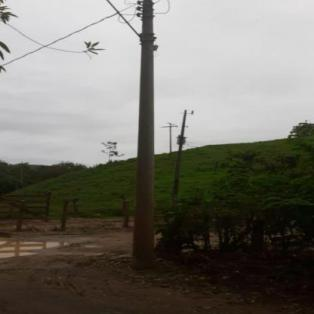Poste: (128, 0, 174, 272), (169, 109, 190, 207)
